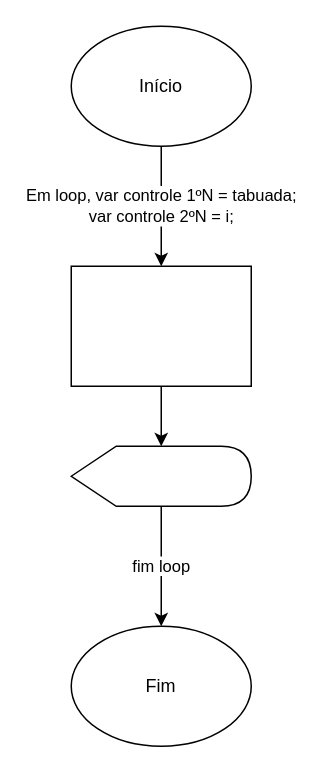
The diagram is 321 pixels wide and 773 high, and some of its shapes have lost their labels. The centre of each missing label's shape, as x and y in pixels:
<tabuada> * <i> = res: [160,475]
res<- tabuada * i: [160,325]
